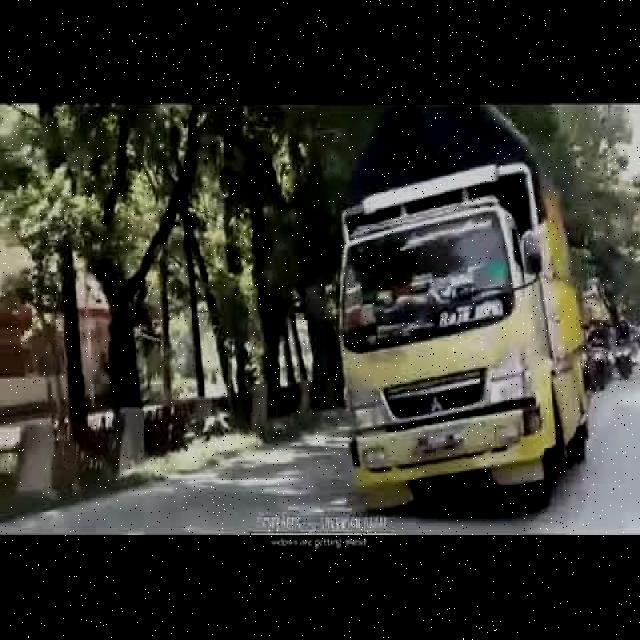truck: (305, 156, 595, 508)
